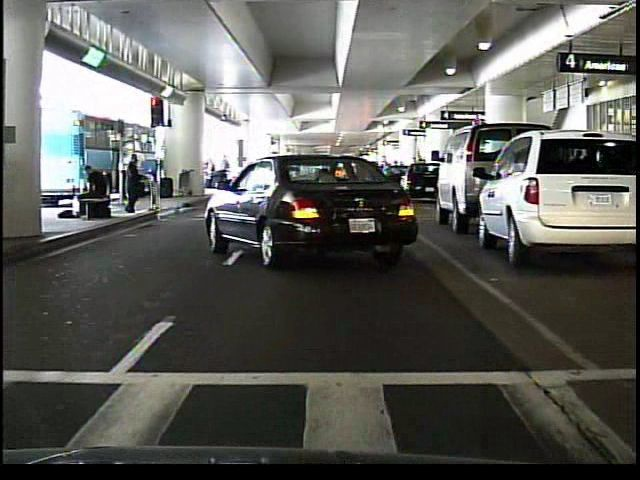person: (73, 163, 110, 225), (117, 149, 142, 213)
